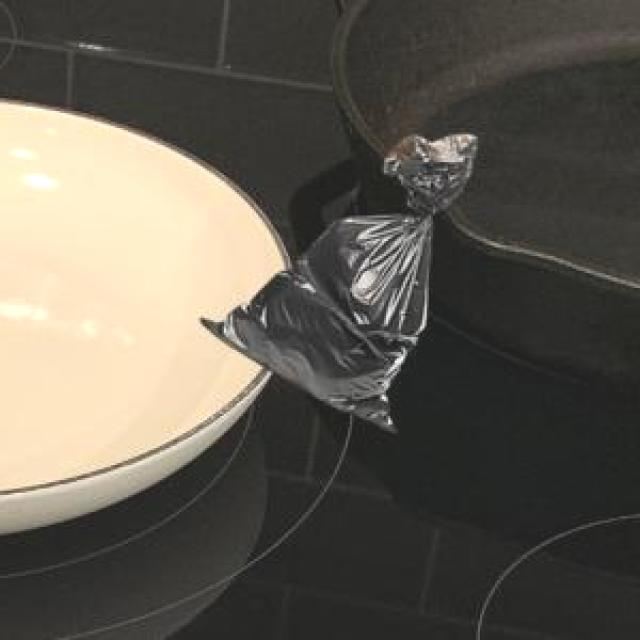Trashbag: (182, 124, 518, 438)
